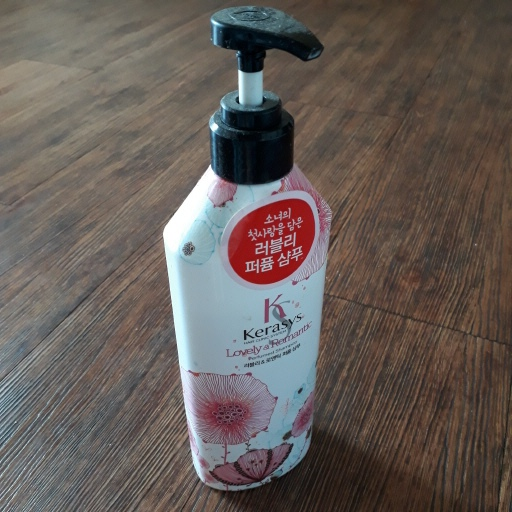Plastic_3: (161, 5, 335, 492)
